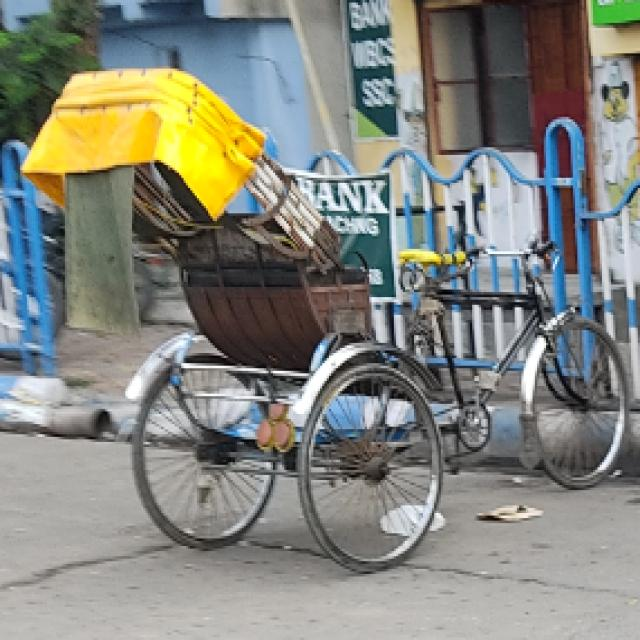rickshaw: (49, 43, 640, 607)
